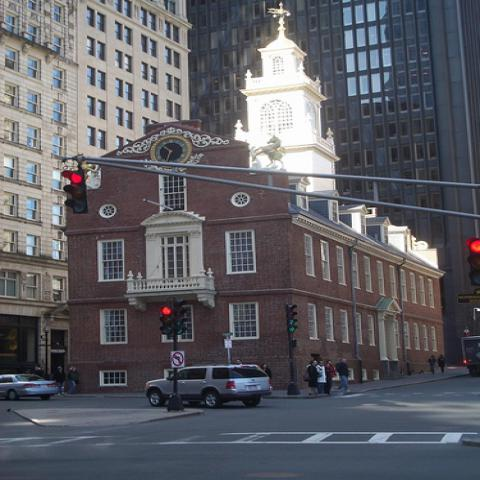car: (144, 365, 272, 408), (2, 373, 62, 401)
truck: (460, 328, 479, 377)
